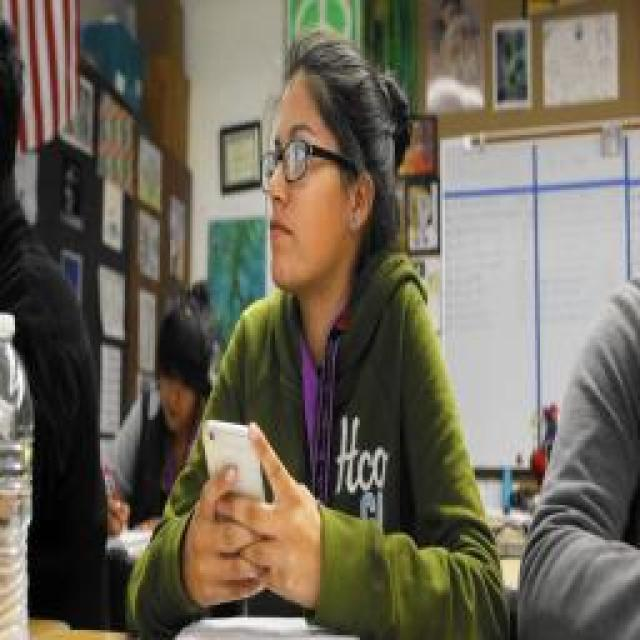phone: (130, 35, 502, 640)
study: (105, 283, 220, 535)
